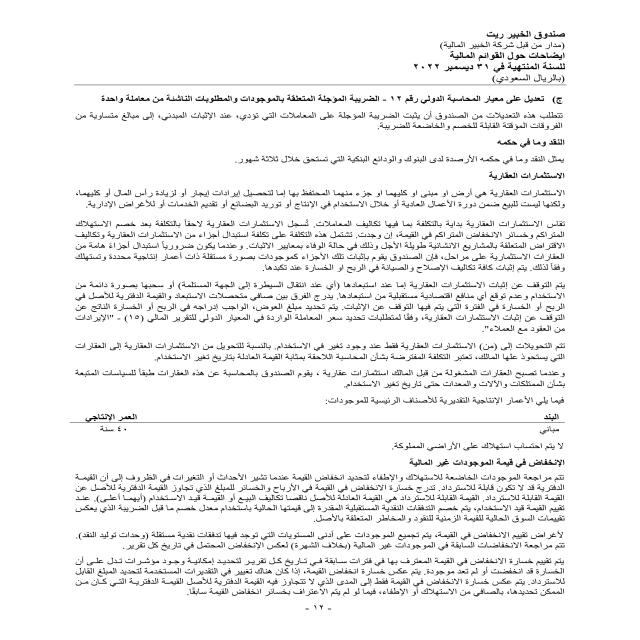notes: (439, 52, 573, 61)
text: (28, 88, 581, 607)
